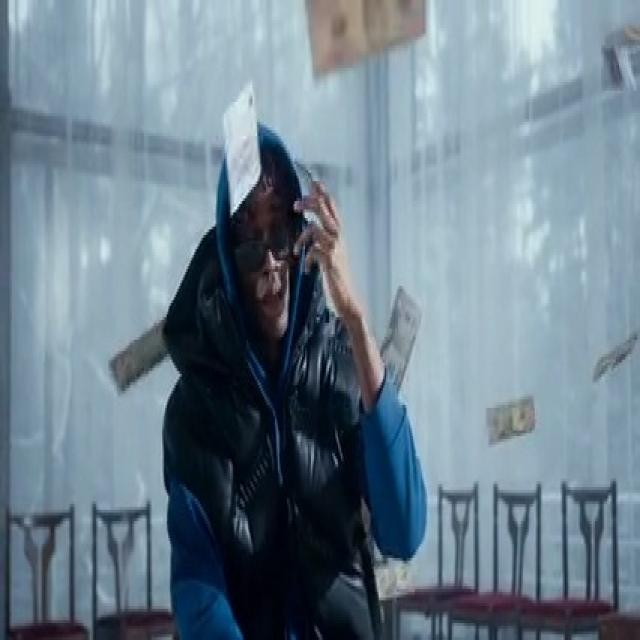Jacket_Wearer: (150, 252, 414, 640)
Person: (120, 85, 416, 640)
